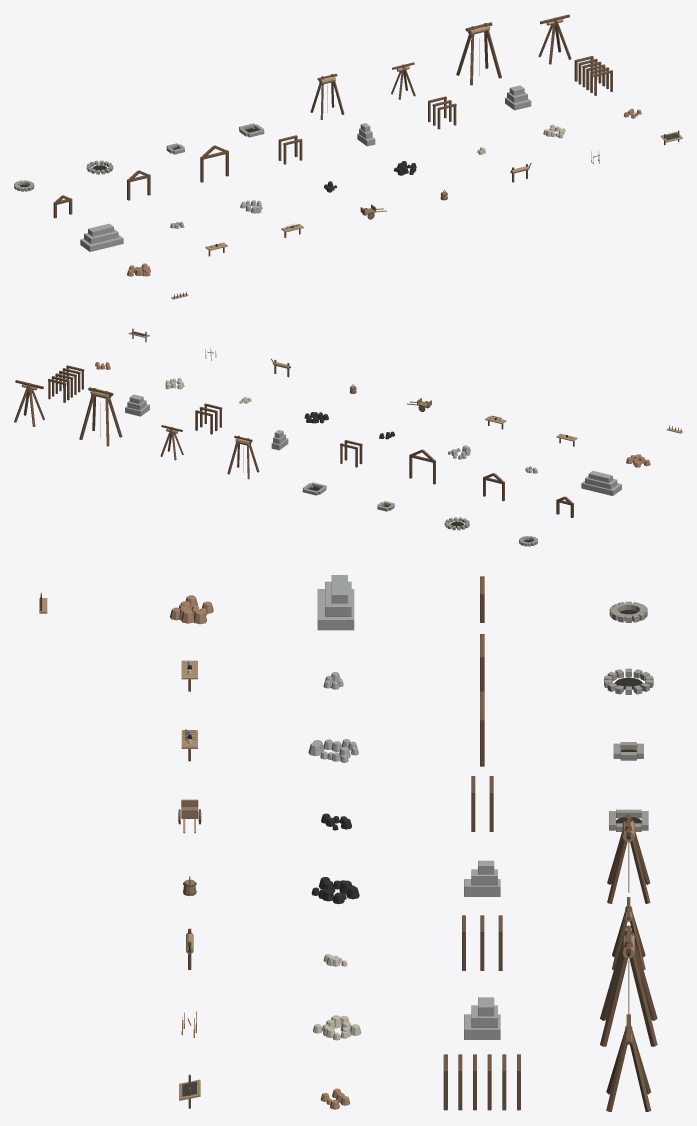
The model's file is extraction.glb.
3 views of the same model, one above another, from view 1: azimuth 30°, elevation 25°; view 2: azimuth 150°, elevation 25°; view 3: azimuth 270°, elevation 25° (orthographic). The views are drawn at different scales.
Visible parts, largest first — view 1: GK_extract_tunnel_support_4m, GK_extract_headframe_large, GK_extract_quarry_bench_4m, GK_extract_quarry_derrick_large, GK_extract_headframe_small, GK_extract_tunnel_support_2m, GK_extract_quarry_bench_2m; view 2: GK_extract_tunnel_support_4m, GK_extract_headframe_large, GK_extract_quarry_bench_4m, GK_extract_quarry_derrick_large, GK_extract_headframe_small, GK_extract_tunnel_support_2m, GK_extract_quarry_bench_2m, GK_extract_tunnel_support_1m; view 3: GK_extract_headframe_large, GK_extract_quarry_bench_4m, GK_extract_tunnel_support_4m, GK_extract_headframe_small, GK_extract_quarry_derrick_large, GK_extract_quarry_bench_2m, GK_extract_quarry_bench_1m, GK_extract_shaft_collar_round_large, GK_extract_stockpile_stone_large, GK_extract_stockpile_iron_large, GK_extract_stockpile_clay_large.
Part boxes in pixels (x1,y1,x2,y2): GK_extract_tunnel_support_4m: (574,56,612,95); GK_extract_headframe_large: (456,22,501,85); GK_extract_quarry_bench_4m: (80,223,123,251); GK_extract_quarry_derrick_large: (538,14,571,64); GK_extract_headframe_small: (310,73,344,119); GK_extract_tunnel_support_2m: (428,96,456,129); GK_extract_quarry_bench_2m: (505,85,531,110); GK_extract_tunnel_support_4m: (48,365,84,402); GK_extract_headframe_large: (79,387,122,446); GK_extract_quarry_bench_4m: (581,471,621,495); GK_extract_quarry_derrick_large: (14,380,44,426); GK_extract_headframe_small: (227,435,259,479); GK_extract_tunnel_support_2m: (195,403,222,434); GK_extract_quarry_bench_2m: (125,394,149,416); GK_extract_tunnel_support_1m: (340,440,362,467); GK_extract_headframe_large: (600,925,657,1046); GK_extract_quarry_bench_4m: (317,575,354,630); GK_extract_tunnel_support_4m: (443,1054,520,1110); GK_extract_headframe_small: (607,814,650,903); GK_extract_quarry_derrick_large: (606,1014,651,1111); GK_extract_quarry_bench_2m: (464,997,500,1039); GK_extract_quarry_bench_1m: (464,860,500,896); GK_extract_shaft_collar_round_large: (604,668,653,694); GK_extract_stockpile_stone_large: (308,739,358,762); GK_extract_stockpile_iron_large: (311,877,359,904); GK_extract_stockpile_clay_large: (170,595,213,624).
Size of the model in its own units: 66.74 by 5.98 by 33.8.
